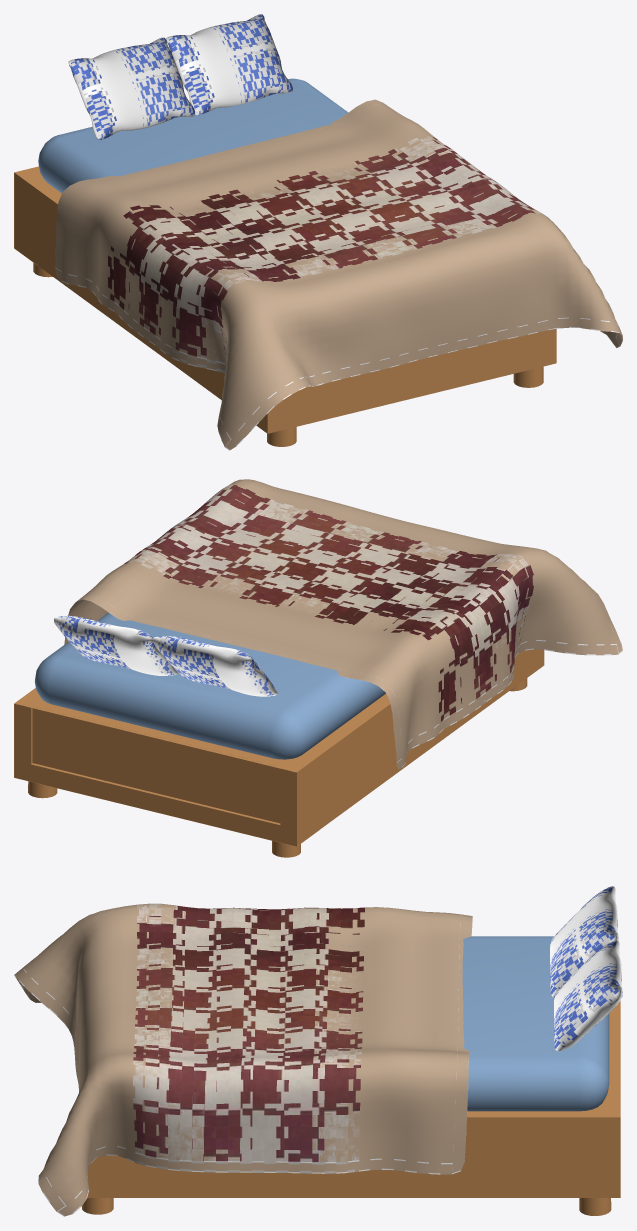
File: Cama.obj
3 renders of one model, top to bottom at view 1: azimuth 30°, elevation 25°; view 2: azimuth 150°, elevation 25°; view 3: azimuth 270°, elevation 25°, orthographic. The views are drawn at different scales.
Parts seen in each view (by area): view 1: Cuarto:Cama:Bed:Mesh; view 2: Cuarto:Cama:Bed:Mesh; view 3: Cuarto:Cama:Bed:Mesh.
Boxes of the visible parts, x1,y1,x2,y2 form: Cuarto:Cama:Bed:Mesh: (14, 14, 622, 450); Cuarto:Cama:Bed:Mesh: (14, 479, 622, 857); Cuarto:Cama:Bed:Mesh: (14, 886, 622, 1216).
Bounding box in the file's own units: 3.89 × 1.83 × 4.81.
5 materials, 5 textured.
